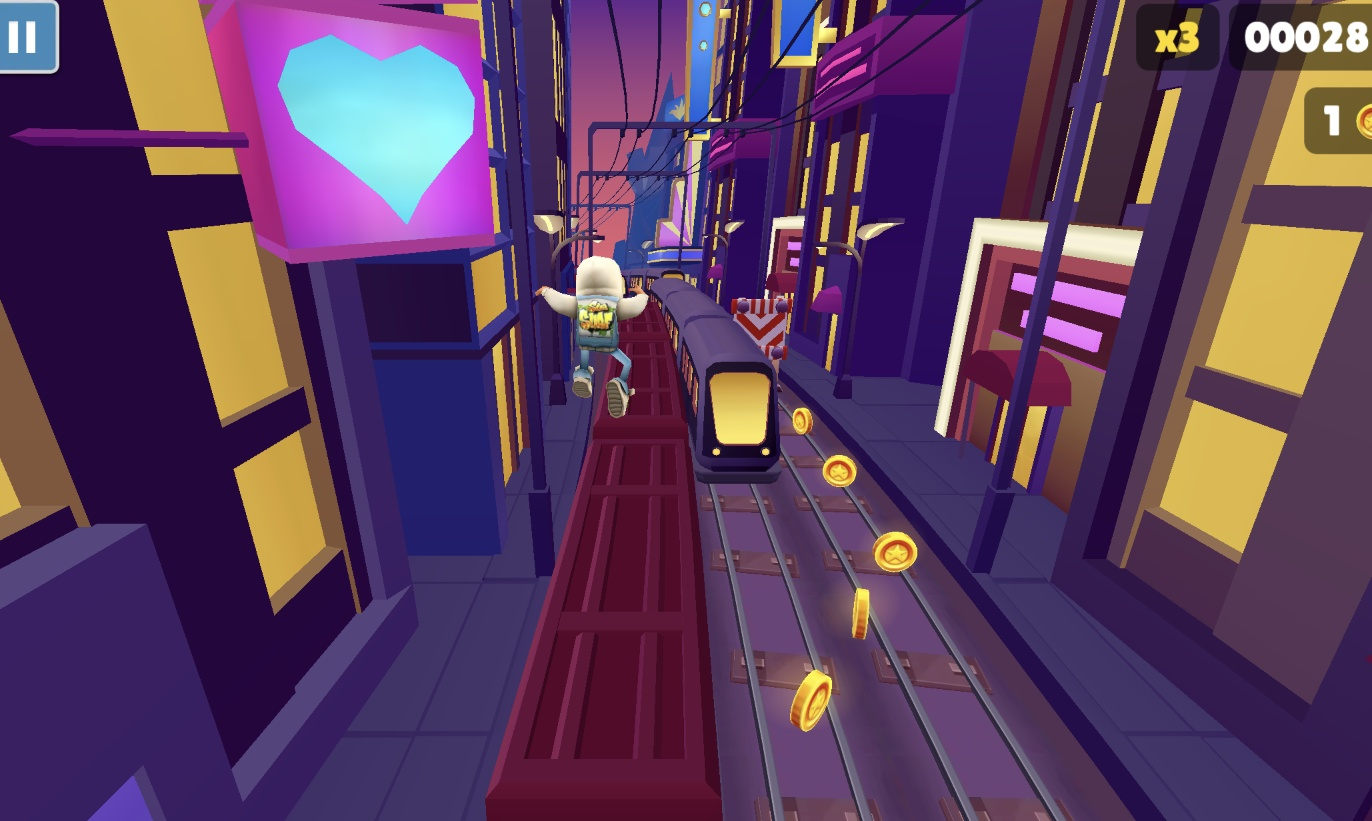overhead_barrier: (725, 292, 791, 373)
train: (480, 276, 723, 821), (637, 277, 788, 488)
